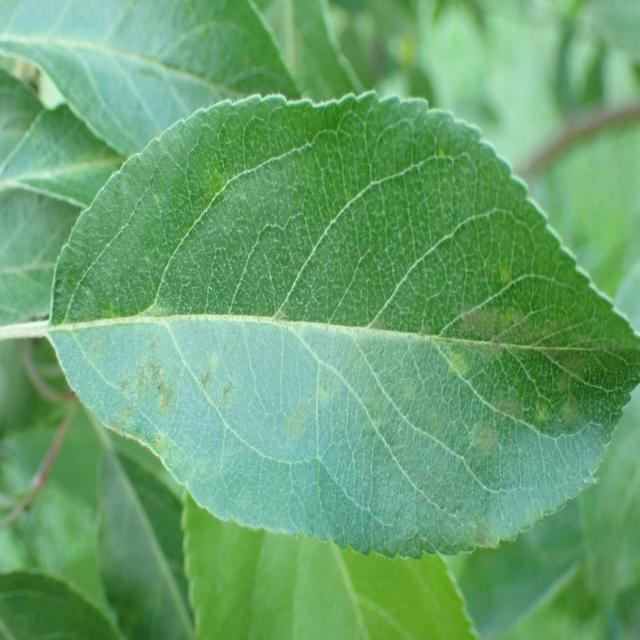scab: (70, 174, 592, 540)
